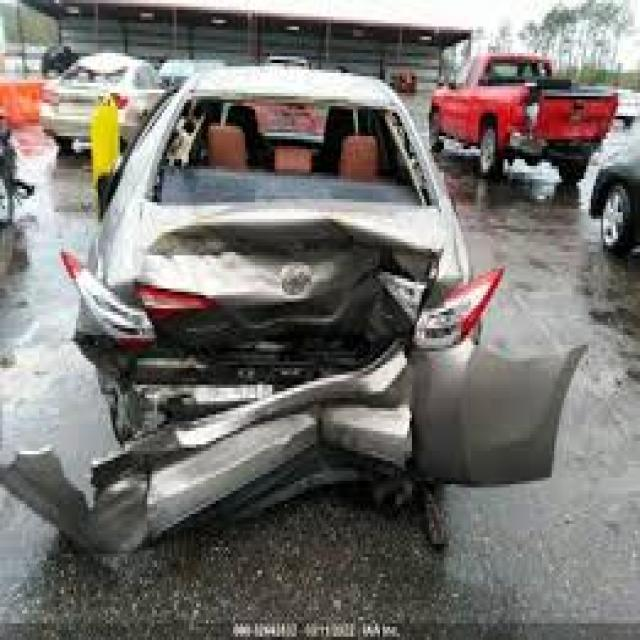damaged-trunk: (138, 190, 438, 332)
